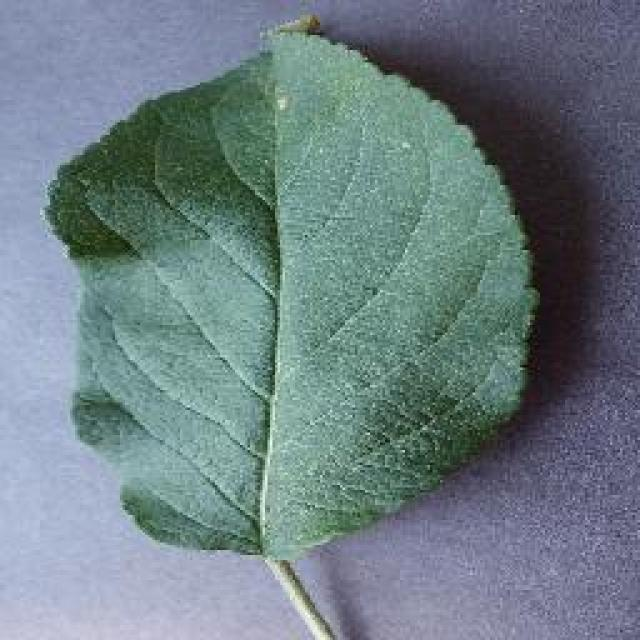apple healthy: (42, 12, 542, 568)
